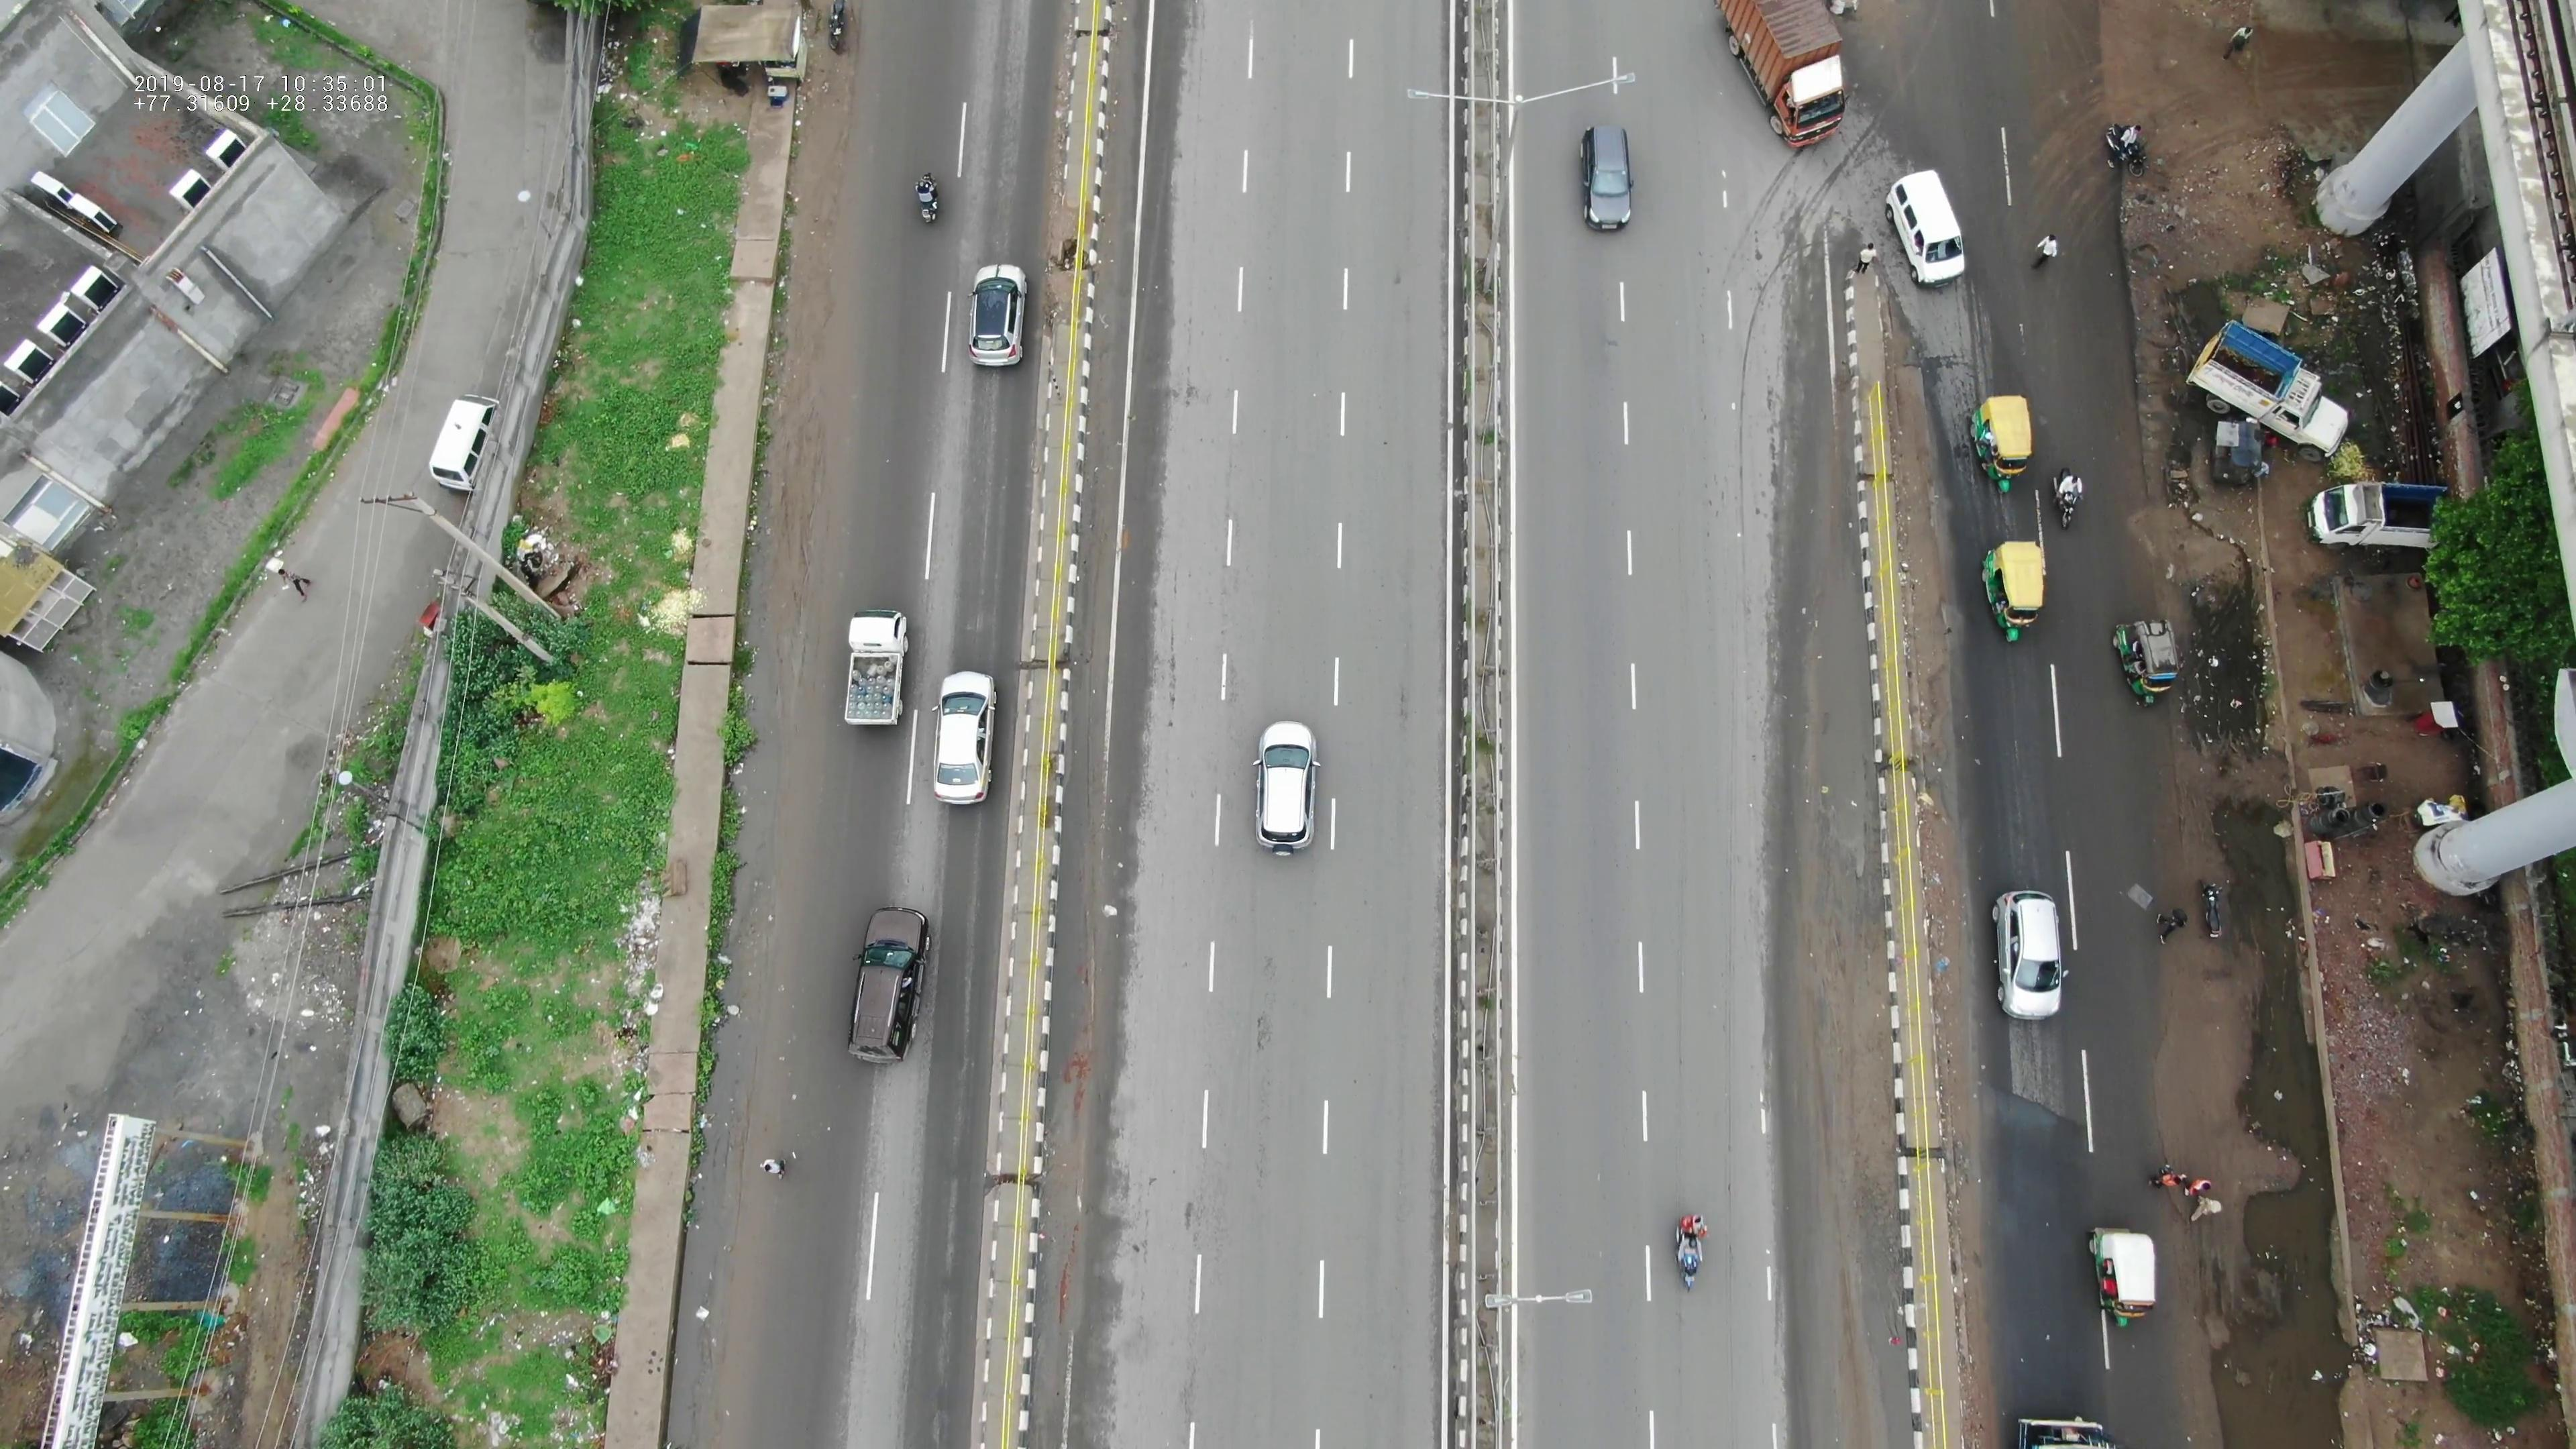Muddy_road: (738, 364, 842, 731), (1801, 879, 1893, 1192), (768, 129, 849, 350)
Waterlogging: (2174, 770, 2330, 1311), (669, 1122, 757, 1435), (2187, 568, 2277, 780)
